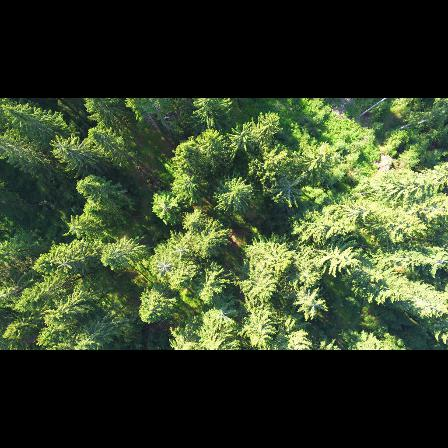Sick: (274, 171, 306, 208), (153, 258, 175, 275), (173, 242, 192, 259)
